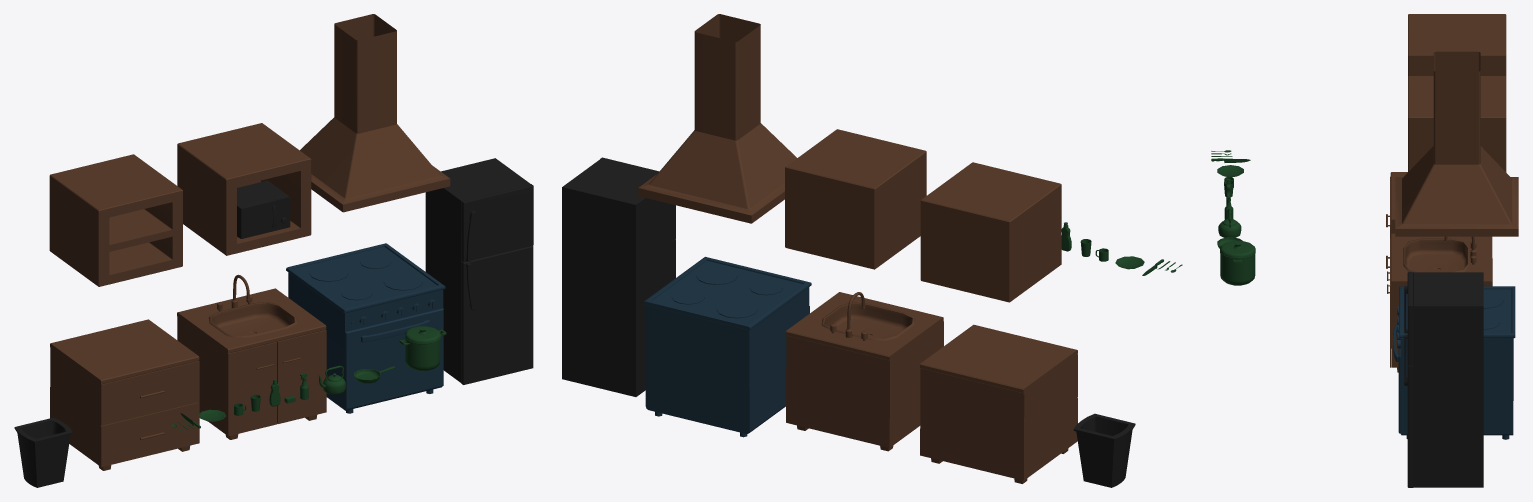
3 renders of one model, left to right at view 1: azimuth 30°, elevation 25°; view 2: azimuth 150°, elevation 25°; view 3: azimuth 270°, elevation 25°, orthographic. The views are drawn at different scales.
Visible parts, largest first — view 1: Heladera, Mesada, Horno, MesadaConBacha, ExtractorHorno, Estante1, Estante, TachoBasura, Microondas, Olla; view 2: Horno, Heladera, Mesada, MesadaConBacha, ExtractorHorno, Estante1, Estante, TachoBasura; view 3: Heladera, ExtractorHorno, Horno, Estante1, MesadaConBacha, Estante, Olla, Mesada, Pava.
Boxes of the visible parts, <box> form: Heladera: <box>425,158,533,384</box>; Mesada: <box>50,319,199,470</box>; Horno: <box>286,243,445,413</box>; MesadaConBacha: <box>177,274,326,439</box>; ExtractorHorno: <box>300,14,450,212</box>; Estante1: <box>49,154,182,286</box>; Estante: <box>177,123,311,255</box>; TachoBasura: <box>14,417,72,487</box>; Microondas: <box>237,180,290,238</box>; Olla: <box>399,326,446,371</box>; Horno: <box>643,256,811,437</box>; Heladera: <box>562,157,675,396</box>; Mesada: <box>920,324,1077,483</box>; MesadaConBacha: <box>786,292,943,451</box>; ExtractorHorno: <box>638,14,796,223</box>; Estante1: <box>920,162,1061,302</box>; Estante: <box>785,129,926,269</box>; TachoBasura: <box>1073,413,1135,487</box>; Heladera: <box>1404,272,1483,487</box>; ExtractorHorno: <box>1395,51,1518,236</box>; Horno: <box>1393,286,1515,439</box>; Estante1: <box>1408,14,1506,76</box>; MesadaConBacha: <box>1387,233,1492,372</box>; Estante: <box>1408,76,1506,171</box>; Olla: <box>1220,240,1255,285</box>; Mesada: <box>1386,172,1492,286</box>; Pava: <box>1218,208,1241,237</box>.
Bounding box in the file's own units: 5.14 × 3.48 × 2.72.
